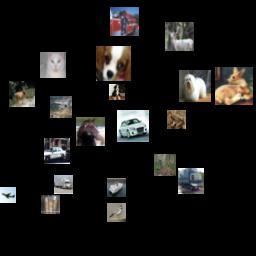airplane: (50, 96, 72, 118), (0, 187, 16, 203)
automobile: (117, 110, 149, 142), (44, 138, 70, 164)
bird: (107, 203, 126, 222)
cat: (40, 52, 66, 78), (41, 195, 60, 214)
deer: (215, 67, 253, 105), (165, 22, 194, 51), (9, 81, 35, 107), (154, 154, 176, 176)
dog: (96, 46, 131, 81), (179, 70, 211, 102), (109, 84, 125, 100)
frog: (167, 110, 186, 129)
ship: (107, 178, 126, 197)
truck: (110, 7, 139, 36), (178, 168, 204, 194), (54, 175, 73, 194)
